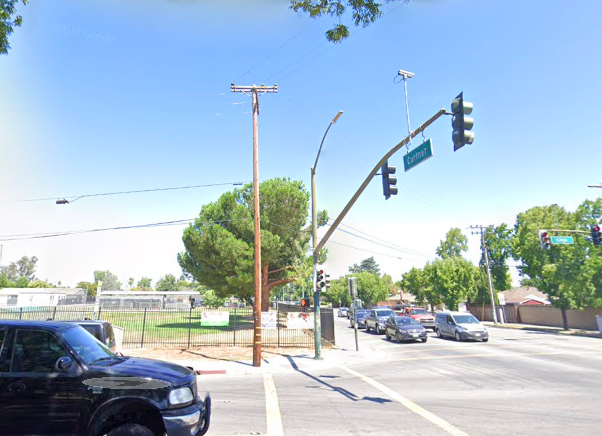utility_pole: (224, 74, 283, 116)
